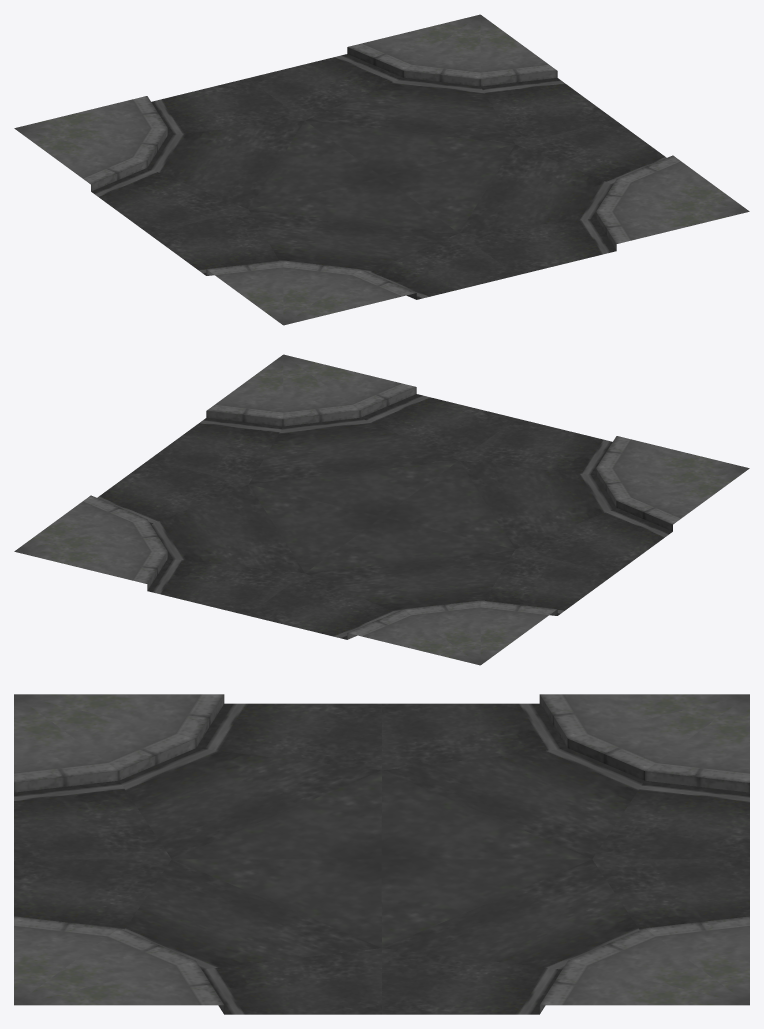
Rendered from road3c.fbx.
3 renders of one model, top to bottom at view 1: azimuth 30°, elevation 25°; view 2: azimuth 150°, elevation 25°; view 3: azimuth 270°, elevation 25°, orthographic. The views are drawn at different scales.
Visible parts, largest first — view 1: road3c; view 2: road3c; view 3: road3c.
Boxes of the visible parts, x1=… form: road3c: x1=14, y1=14, x2=749, y2=325; road3c: x1=14, y1=354, x2=749, y2=665; road3c: x1=14, y1=694, x2=749, y2=1014.
Bounding box in the file's own units: 1400 × 1400 × 20.
1 material, 1 textured.
